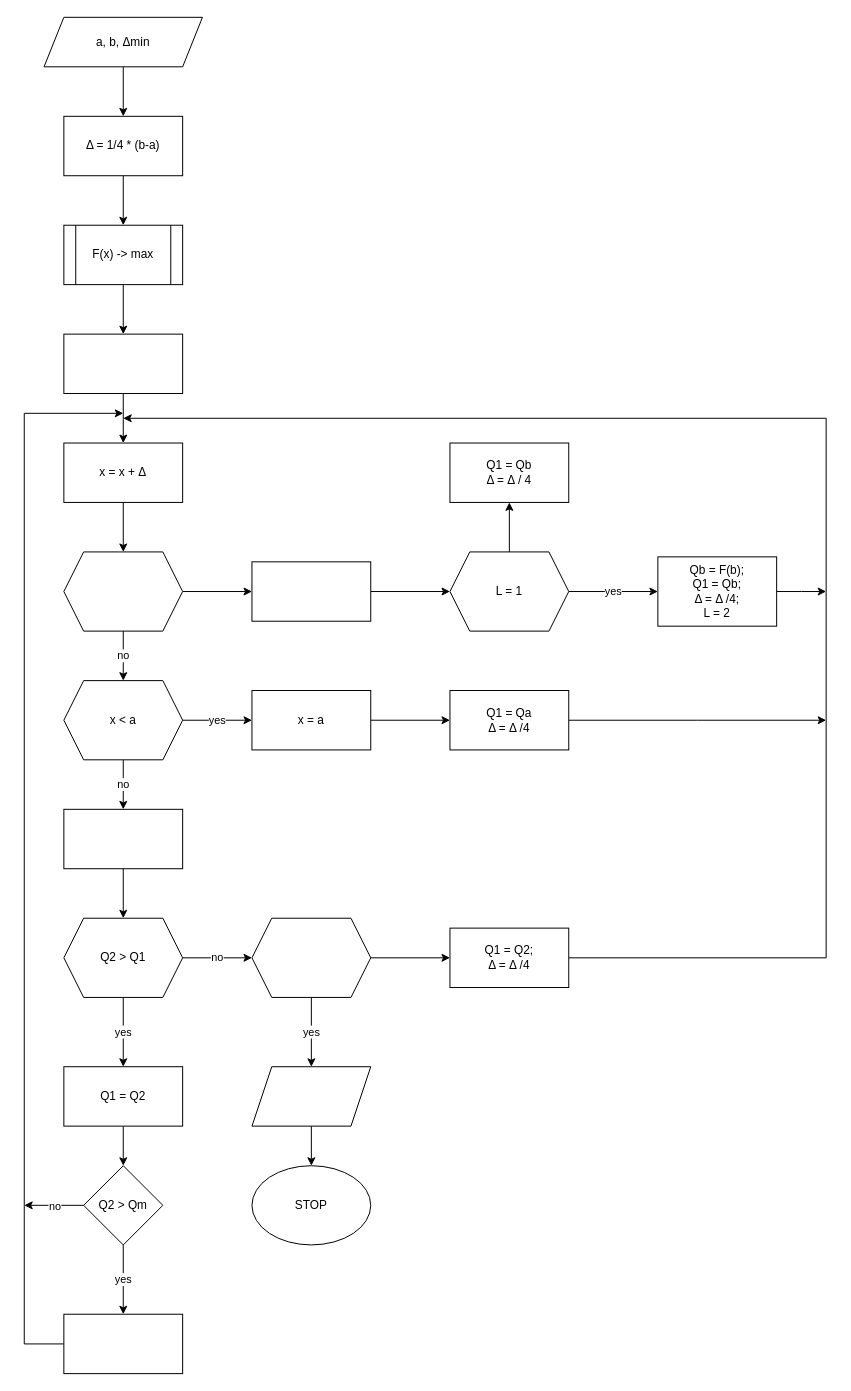
This 851x1391 diagram has some shape labels left out. Here are the shapes that lost their labels. From the top down, the box of each, then its label:
(63, 333, 183, 394): xm = a; x = a; L=1; Q1 = F(a); Qm = Q1; Qa = Q1
(63, 551, 183, 631): x > b
(251, 561, 371, 621): x = b
(63, 808, 183, 869): Q2 = F(x)
(251, 917, 371, 997): |Δ| <= Δmin
(251, 1066, 371, 1126): Qm, xm
(63, 1313, 183, 1374): Qm = Q2; xm = x
